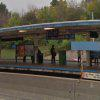Tree: (28, 4, 99, 23)
